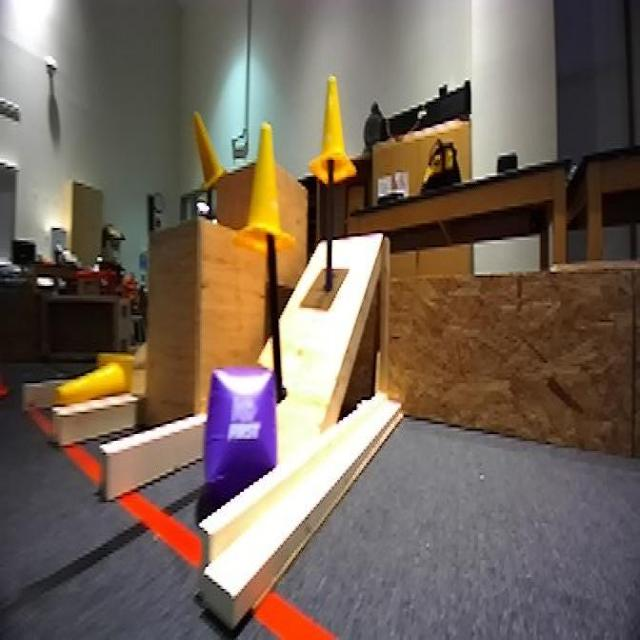frc_cone: (239, 126, 296, 252), (310, 72, 356, 186), (63, 349, 137, 412), (194, 107, 225, 194)
frc_cube: (193, 361, 278, 504)
